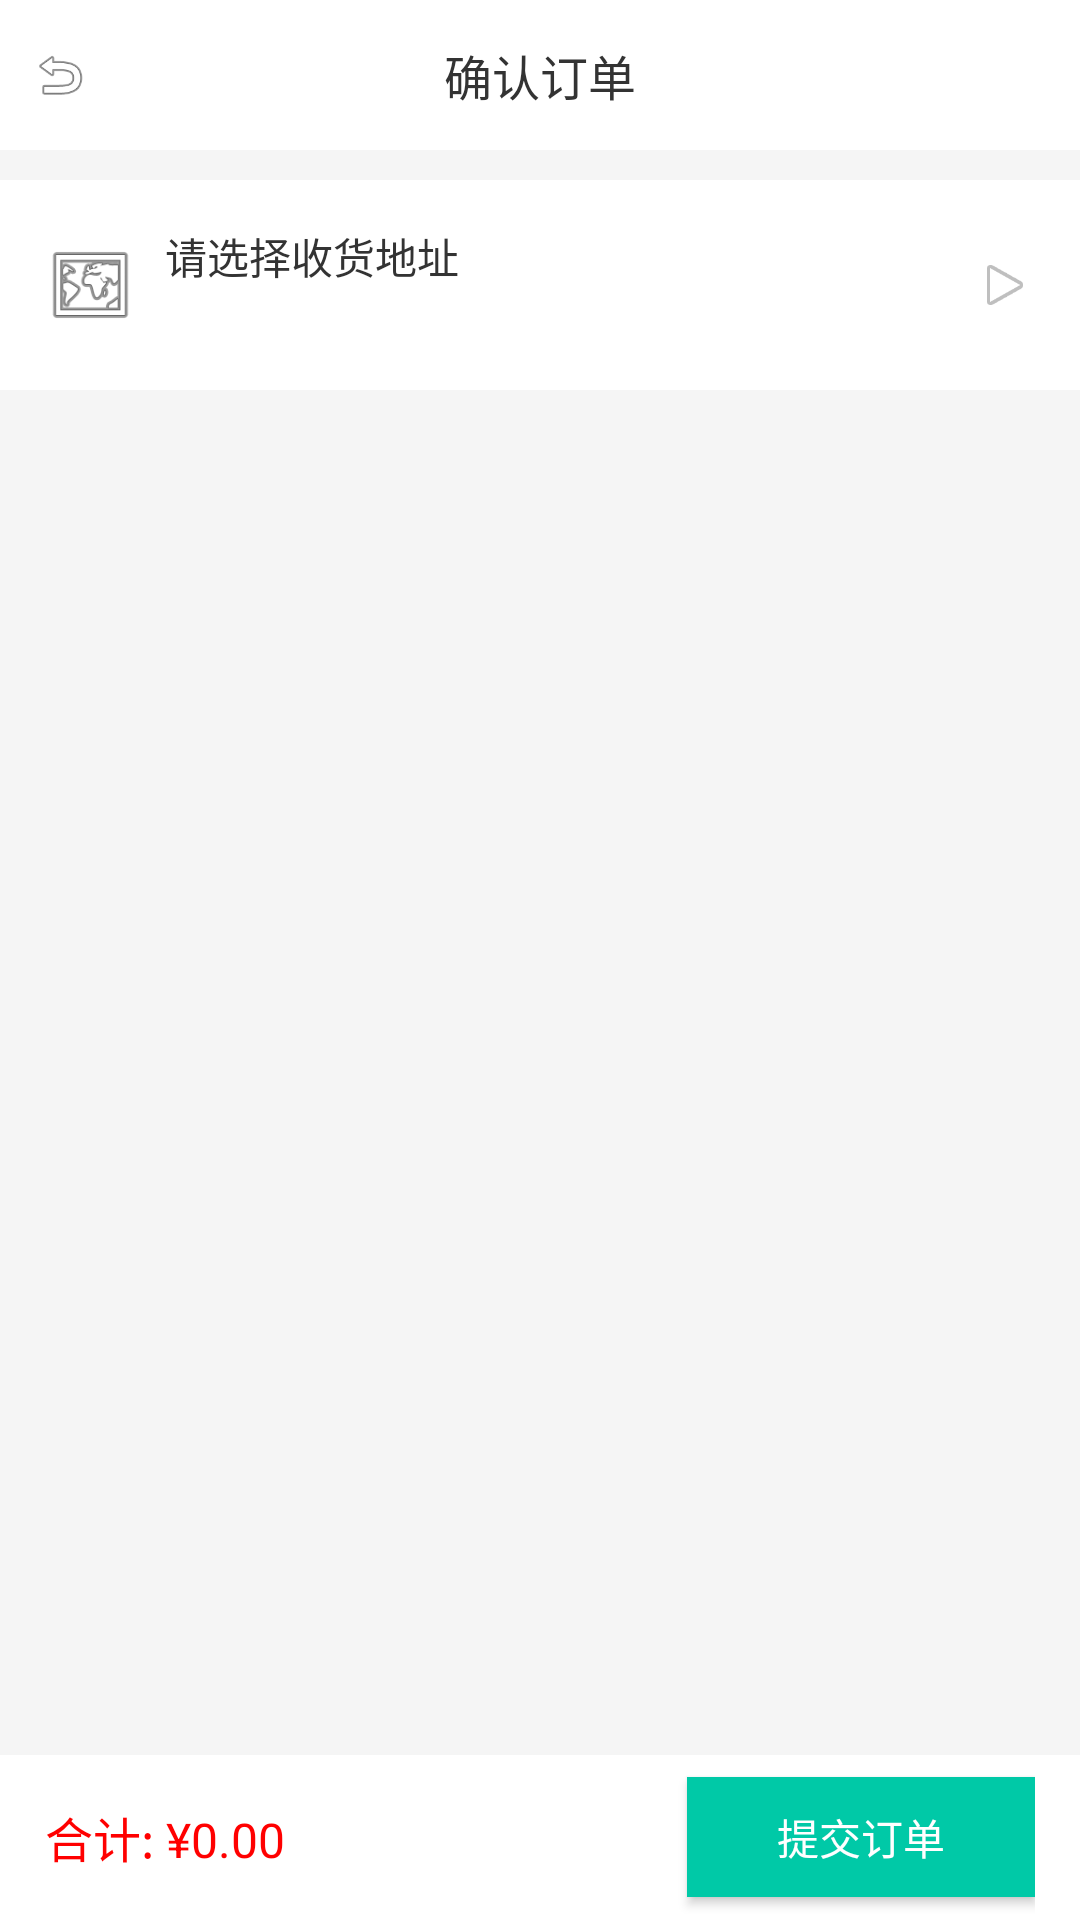

Icons on this 1080x1920 Android screen, each with its box as [x1,y1,x2,y2]:
mapmode: [53,252,128,318]
play: [987,265,1023,305]
revert: [39,56,83,95]
